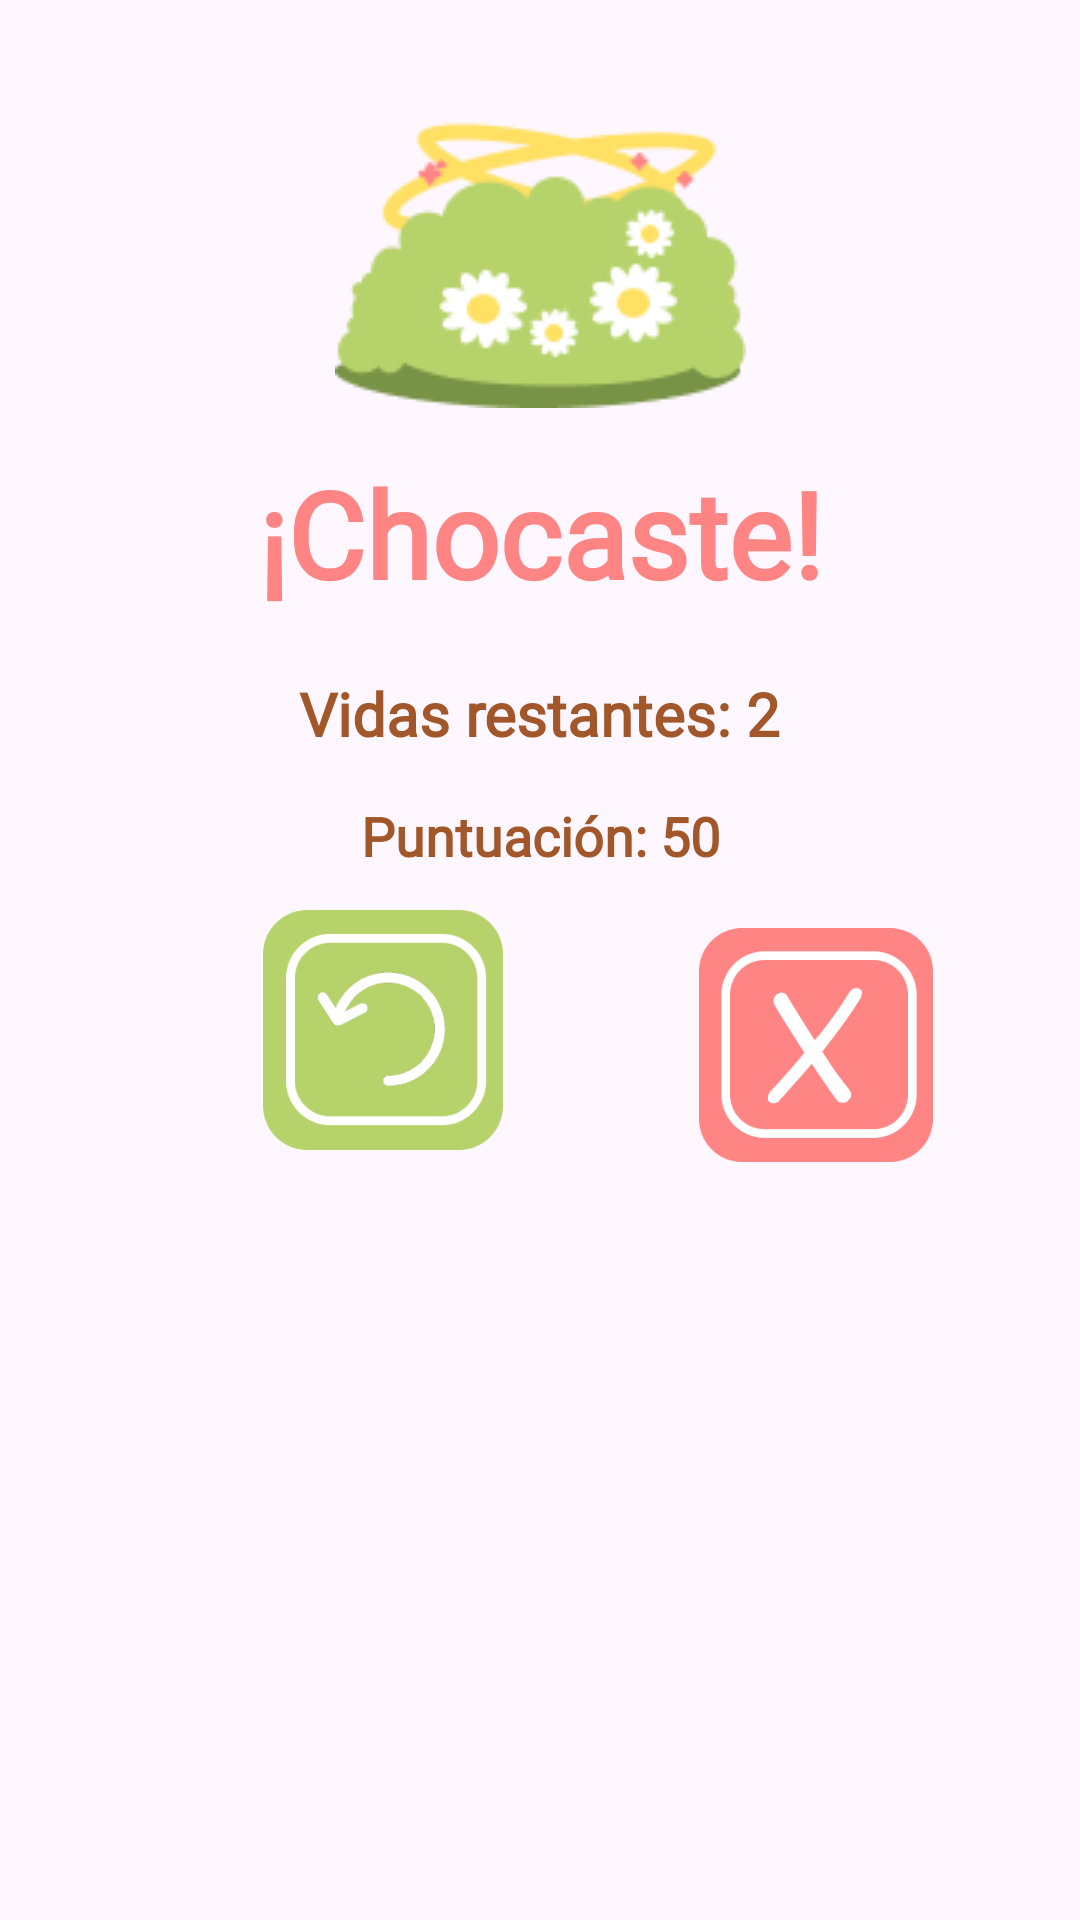

Screen size 1080px×1920px. Icon name, then its box in pixels as (x1, y1, x2, y2):
regresar: (263, 910, 503, 1150)
salir: (699, 928, 933, 1162)
